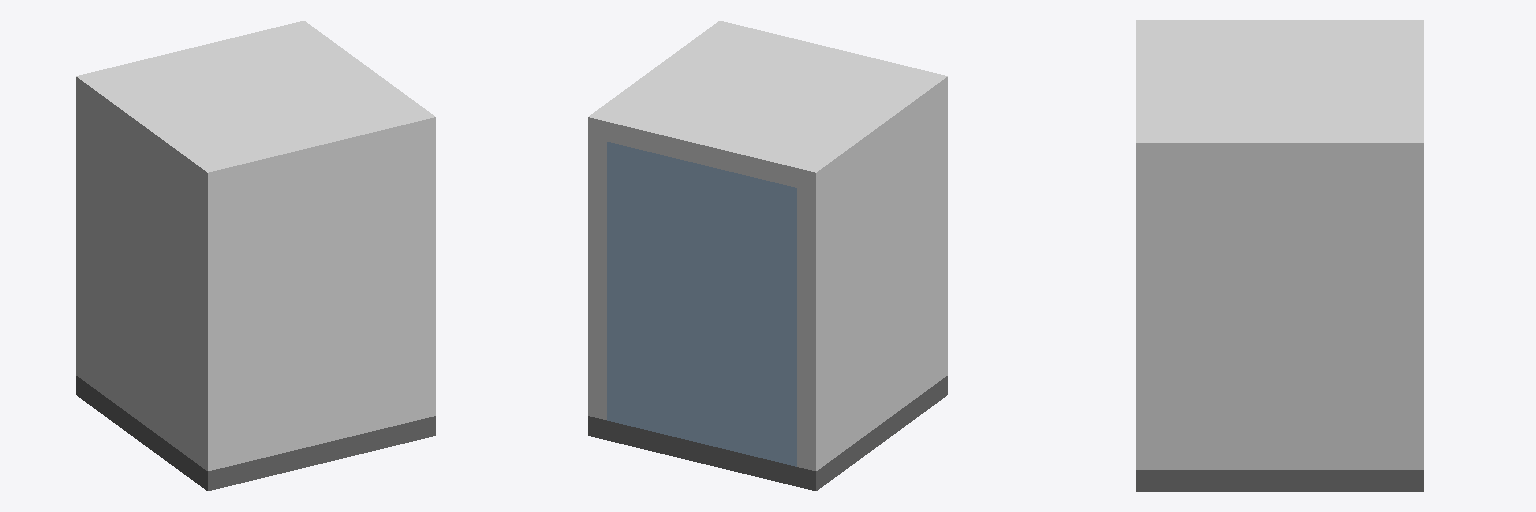
robot.urdf — washing_machine:
<?xml version="1.0"?>
<robot name="washing_machine">
  <material name="body_mat">
    <color rgba="0.9 0.9 0.9 1.0"/>
  </material>
  <material name="door_mat">
    <color rgba="0.7 0.8 0.9 1.0"/>
  </material>
  <material name="inside_mat">
    <color rgba="0.5 0.5 0.5 1.0"/>
  </material>

  <link name="base_link">
    <inertial>
      <mass value="30.0"/>
      <origin xyz="0 0 0.4" rpy="0 0 0"/>
      <inertia ixx="1.6" ixy="0" ixz="0" iyy="1.6" iyz="0" izz="1.8"/>
    </inertial>
    
    <!-- Bottom -->
    <visual><origin xyz="0 0 0.025" rpy="0 0 0"/><geometry><box size="0.6 0.6 0.05"/></geometry><material name="inside_mat"/></visual>
    <collision><origin xyz="0 0 0.025" rpy="0 0 0"/><geometry><box size="0.6 0.6 0.05"/></geometry></collision>

    <!-- Top -->
    <visual><origin xyz="0 0 0.775" rpy="0 0 0"/><geometry><box size="0.6 0.6 0.05"/></geometry><material name="body_mat"/></visual>
    <collision><origin xyz="0 0 0.775" rpy="0 0 0"/><geometry><box size="0.6 0.6 0.05"/></geometry></collision>

    <!-- Left -->
    <visual><origin xyz="-0.275 0 0.4" rpy="0 0 0"/><geometry><box size="0.05 0.6 0.7"/></geometry><material name="body_mat"/></visual>
    <collision><origin xyz="-0.275 0 0.4" rpy="0 0 0"/><geometry><box size="0.05 0.6 0.7"/></geometry></collision>

    <!-- Right -->
    <visual><origin xyz="0.275 0 0.4" rpy="0 0 0"/><geometry><box size="0.05 0.6 0.7"/></geometry><material name="body_mat"/></visual>
    <collision><origin xyz="0.275 0 0.4" rpy="0 0 0"/><geometry><box size="0.05 0.6 0.7"/></geometry></collision>

    <!-- Back -->
    <visual><origin xyz="0 -0.275 0.4" rpy="0 0 0"/><geometry><box size="0.5 0.05 0.7"/></geometry><material name="body_mat"/></visual>
    <collision><origin xyz="0 -0.275 0.4" rpy="0 0 0"/><geometry><box size="0.5 0.05 0.7"/></geometry></collision>
  </link>

  <link name="door_link">
    <inertial>
      <mass value="2.0"/>
      <origin xyz="0.25 0 0" rpy="0 0 0"/>
      <inertia ixx="0.08" ixy="0" ixz="0" iyy="0.04" iyz="0" izz="0.04"/>
    </inertial>
    <visual>
      <origin xyz="0.25 0 0" rpy="0 0 0"/>
      <geometry><box size="0.5 0.05 0.7"/></geometry>
      <material name="door_mat"/>
    </visual>
    <collision>
      <origin xyz="0.25 0 0" rpy="0 0 0"/>
      <geometry><box size="0.5 0.05 0.7"/></geometry>
    </collision>
  </link>

  <joint name="door_joint" type="revolute">
    <parent link="base_link"/>
    <child link="door_link"/>
    <origin xyz="-0.25 0.275 0.4" rpy="0 0 0"/>
    <axis xyz="0 0 1"/>
    <limit lower="0" upper="2.0" effort="100.0" velocity="1.0"/>
    <dynamics damping="1.0" friction="1.0"/>
  </joint>
</robot>

--- What the picture shows (computed from the rendered views, not written in the file) ---
The picture shows the robot from 3 angles, left to right: view 1: azimuth 30°, elevation 25°; view 2: azimuth 150°, elevation 25°; view 3: azimuth 270°, elevation 25°; orthographic projection.
Robot: washing_machine — 2 links, 1 joints (1 revolute); root link base_link; default pose: all joints at 0.
Links seen in each view (by area): view 1: base_link; view 2: base_link, door_link; view 3: base_link.
Link boxes in pixels (box(x1,y1,x2,y2)): base_link: box(76, 21, 435, 490); base_link: box(588, 21, 947, 490); door_link: box(607, 142, 796, 466); base_link: box(1136, 20, 1423, 491).
Bounding box of the posed robot: 0.6 × 0.6 × 0.8 m (x, y, z).
Geometry: primitives only (box / cylinder / sphere), no mesh files.
